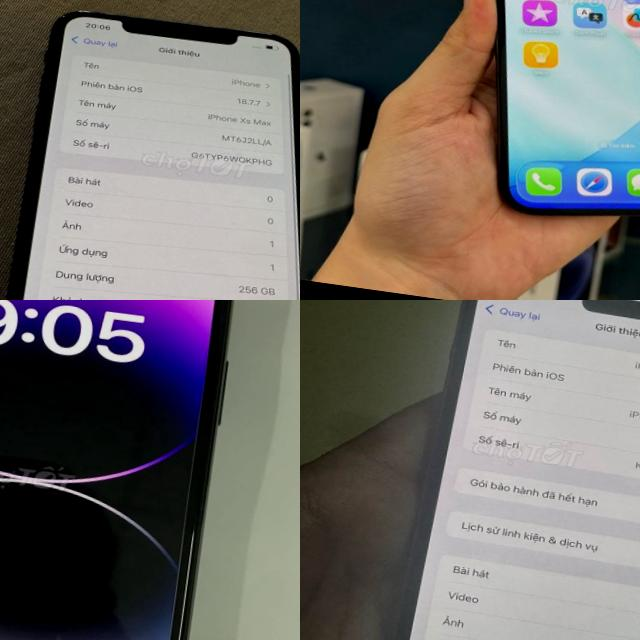gen_12_13: (444, 0, 640, 242)
gen_14: (369, 300, 640, 640)
gen_x_xs: (0, 0, 300, 300), (0, 300, 259, 640)
